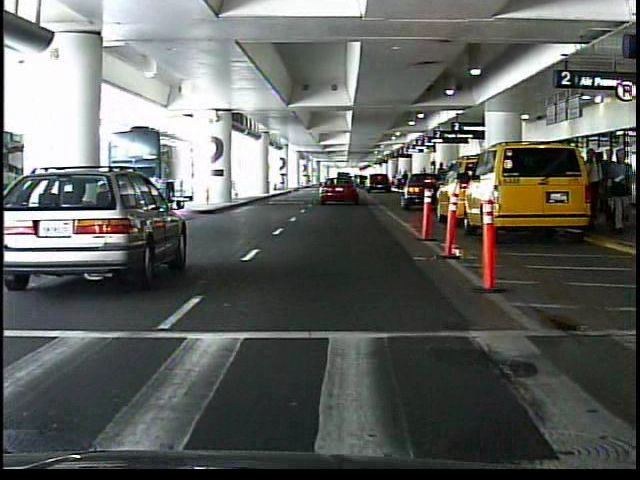person: (435, 160, 449, 204)
